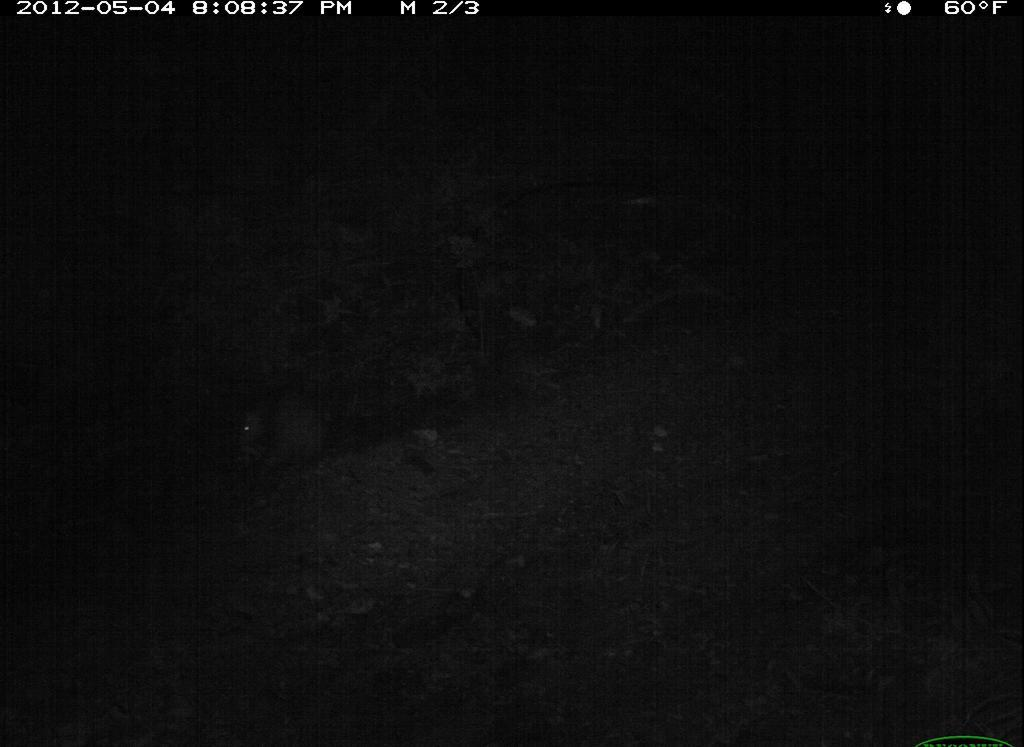opossum: (221, 376, 378, 486)
